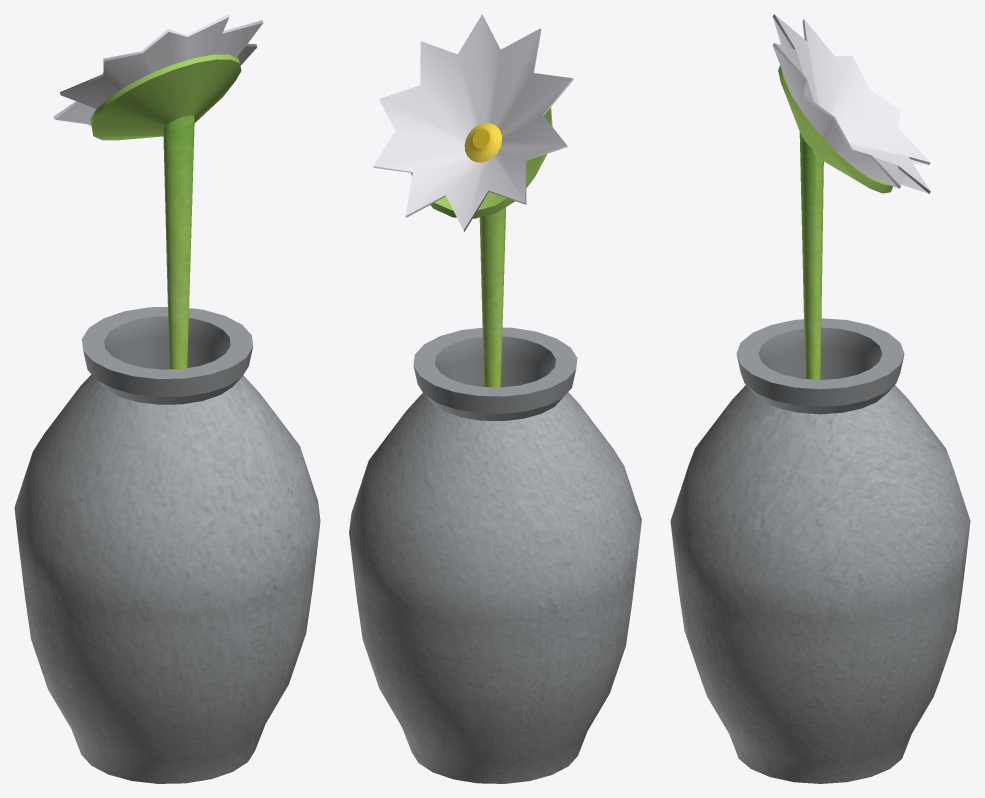
Rendered from PLANTA_ALL.fbx.
3 views of the same model, side by side, from view 1: azimuth 30°, elevation 25°; view 2: azimuth 150°, elevation 25°; view 3: azimuth 270°, elevation 25° (orthographic). The views are drawn at different scales.
Parts seen in each view (by area): view 1: Vaso, PLanta; view 2: Vaso, PLanta; view 3: Vaso, PLanta.
Part boxes in pixels (left/top/right/bottom): Vaso: left=14, top=307, right=320, bottom=783; PLanta: left=54, top=14, right=263, bottom=369; Vaso: left=349, top=327, right=641, bottom=783; PLanta: left=373, top=14, right=573, bottom=387; Vaso: left=670, top=318, right=970, bottom=783; PLanta: left=772, top=14, right=930, bottom=379.
Bounding box in the file's own units: 15.92 × 42.3 × 15.92.
